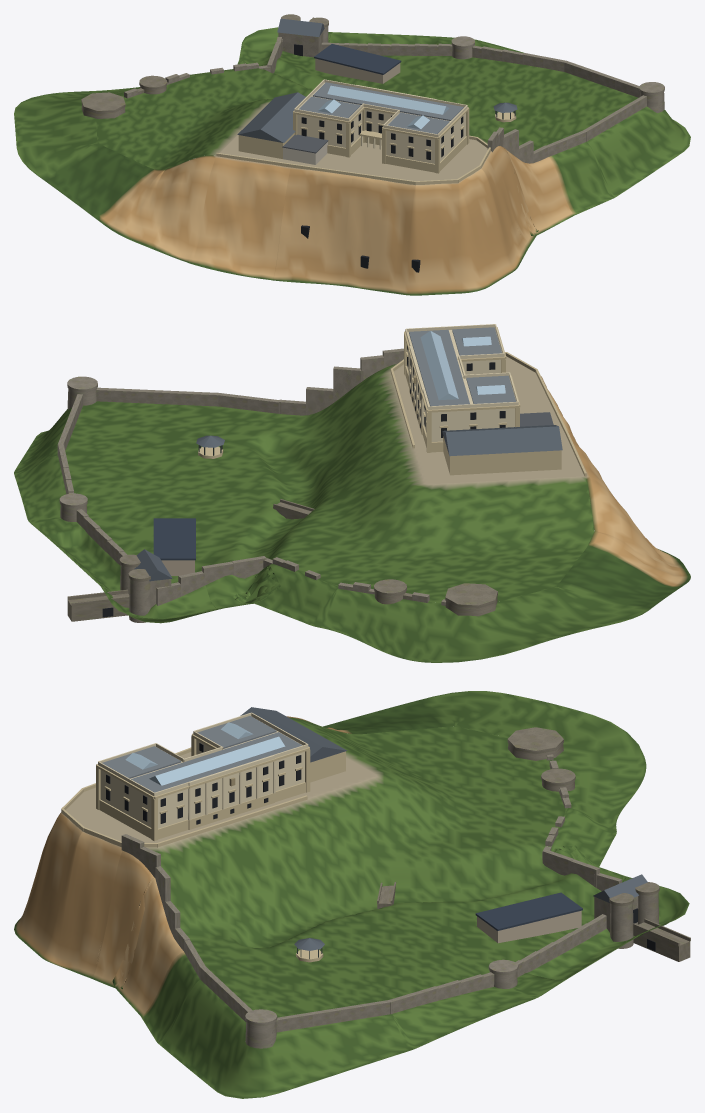
Rendered from nottingham-castle.glb.
3 renders of one model, top to bottom at view 1: azimuth 30°, elevation 25°; view 2: azimuth 150°, elevation 25°; view 3: azimuth 270°, elevation 25°, orthographic. The views are drawn at different scales.
Size of the model in its own units: 25.6 by 5.8 by 20.96.
Materials: 15 (2 with a texture image).
